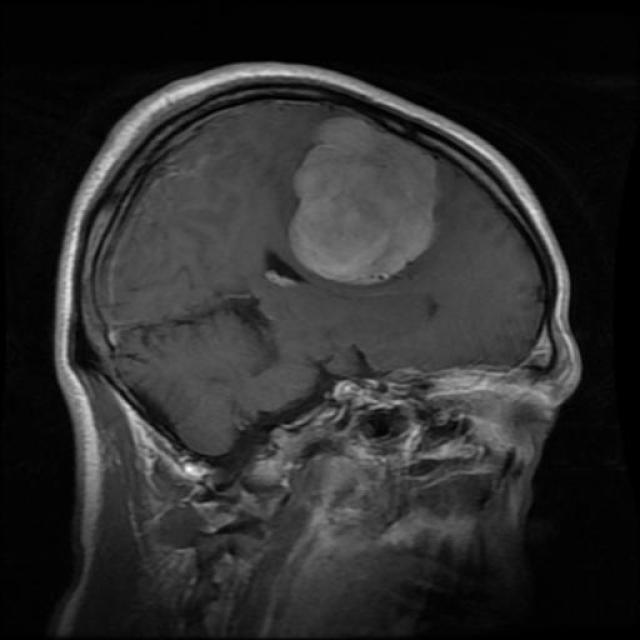meningioma: (288, 115, 441, 288)
